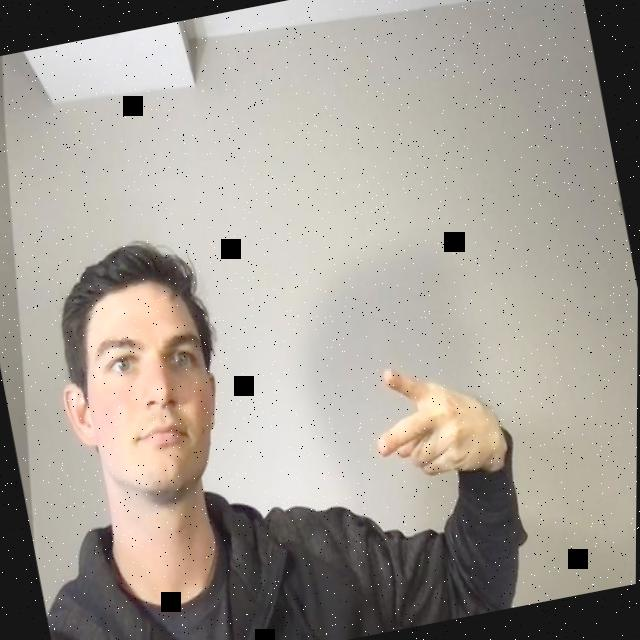Scissors: (363, 350, 505, 486)
